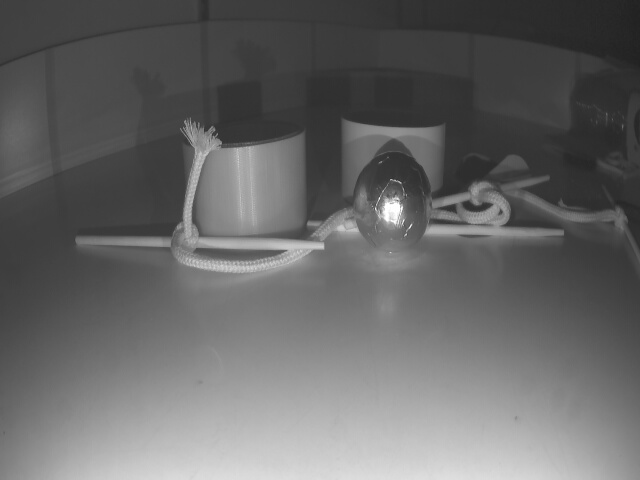Live: (357, 155, 431, 256)
